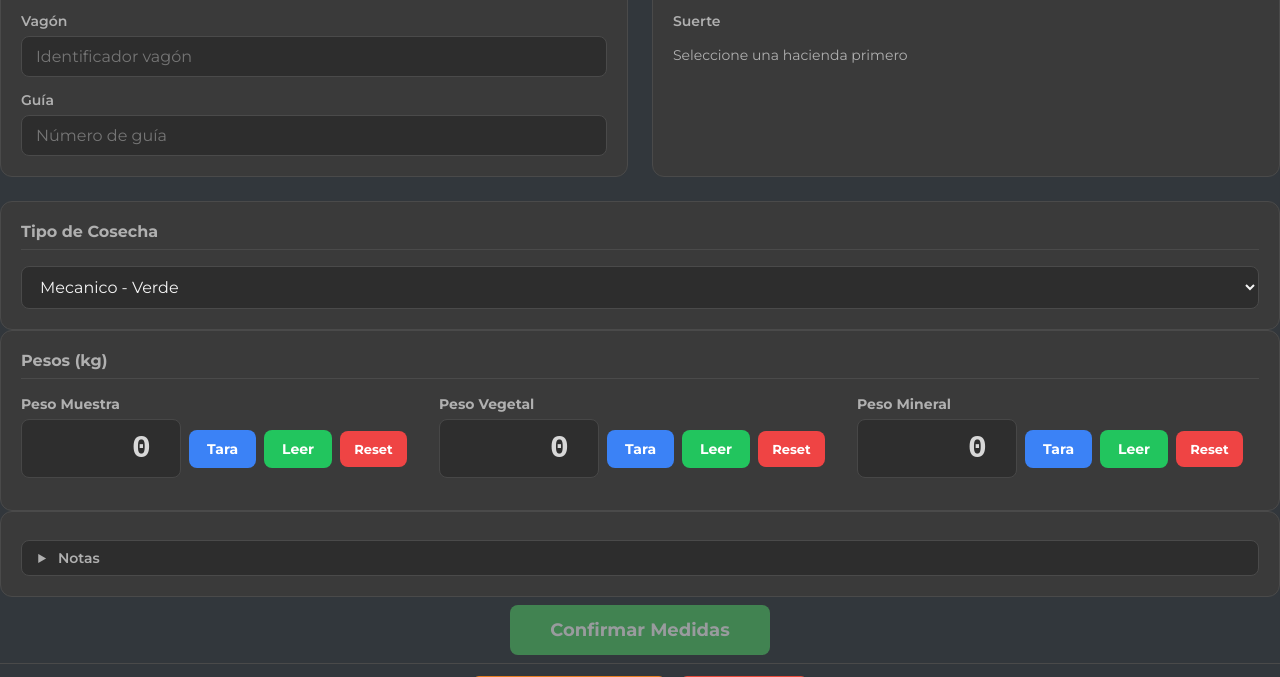
Scenario: KioskForm — Feature 37: Notas colapsables (R2, R3, R4, R6) › al expandir muestra el textarea y al colapsar lo oculta
(page scrolled)
Expected: the button "Confirmar Medidas" is shown, [510,605,770,655]
Note: Click the toggle to expand
Click the button "▶ Notas" at (79, 558), box [21,540,1259,576]
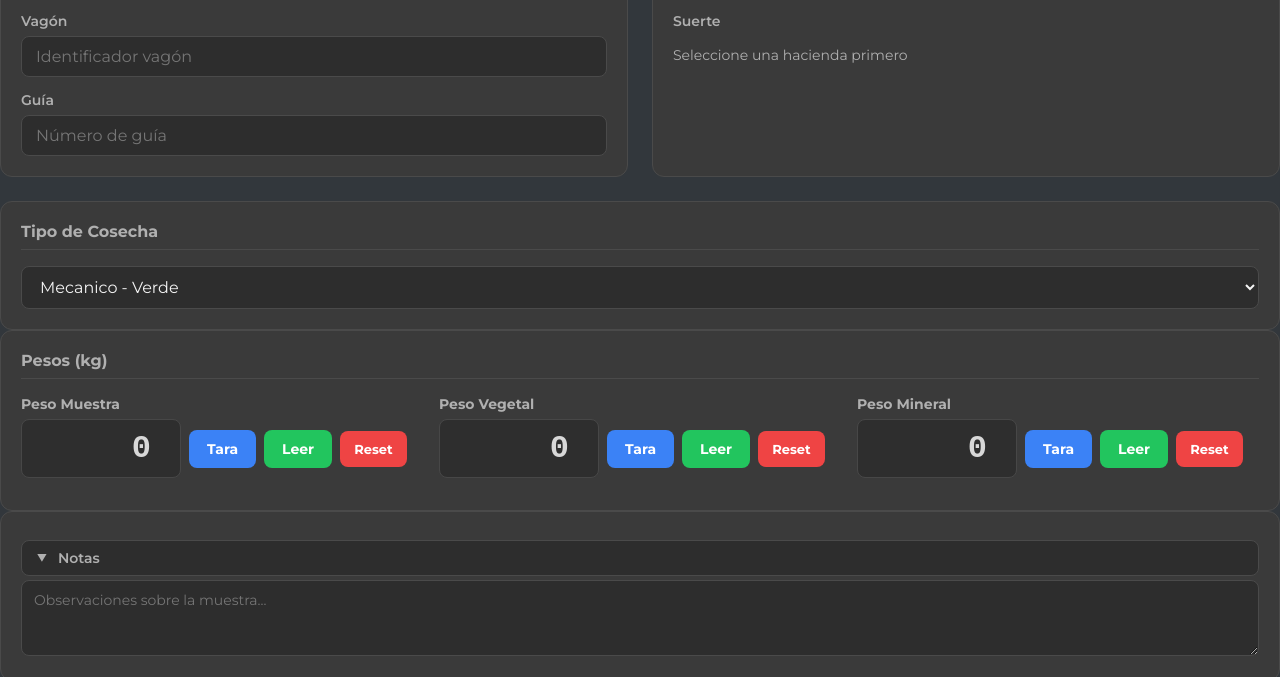
Now the text box with class "notes-textarea" is shown, box [21,580,1259,656]
Note: Click again to collapse
Click the button "▼ Notas" at (79, 558), box [21,540,1259,576]
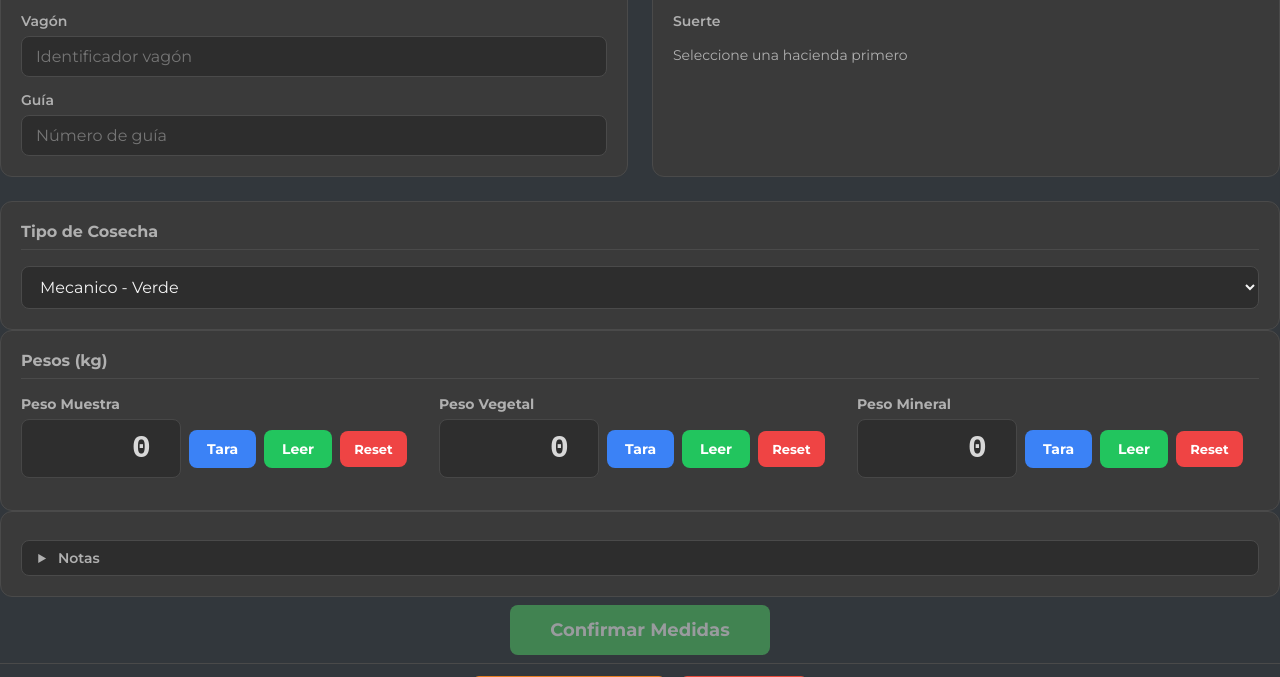
Now no text boxes with class "notes-textarea" are shown
